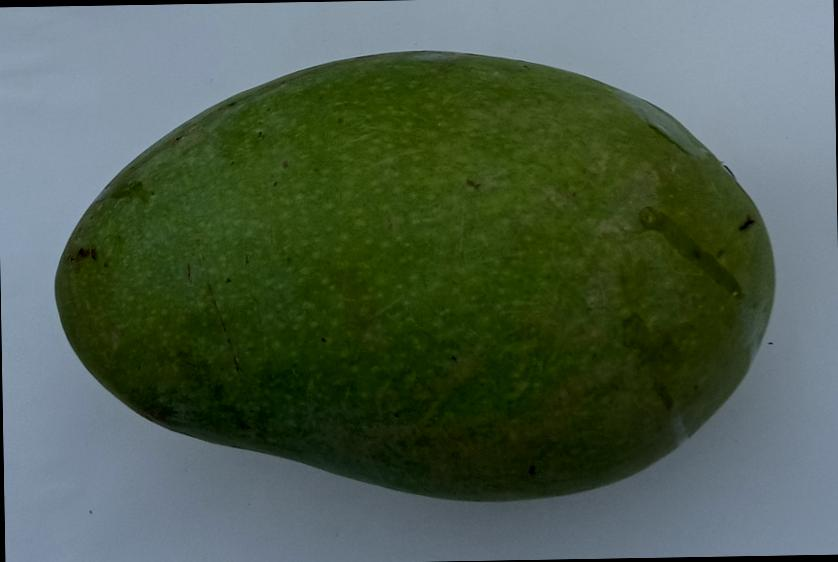Mango Unripe: (31, 21, 814, 526)
